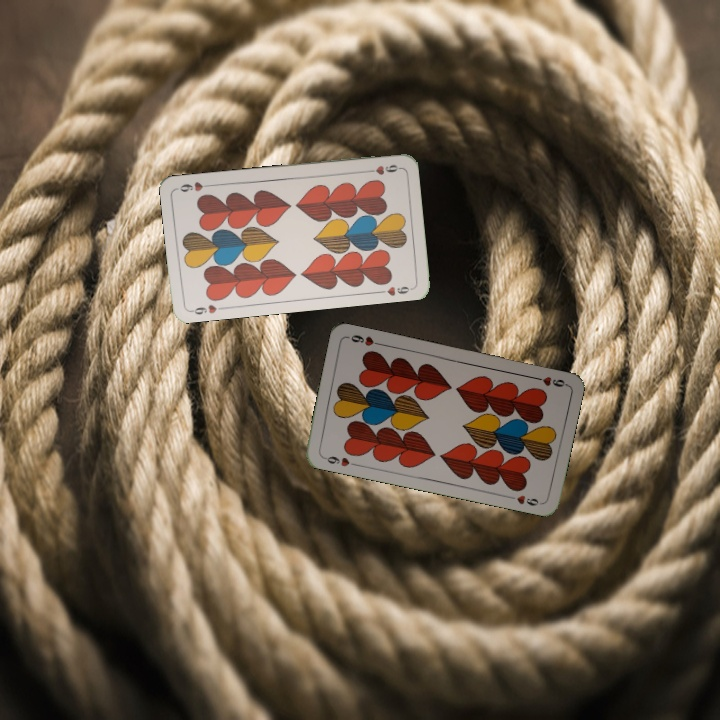H9: (528, 372, 569, 390), (362, 160, 402, 178), (319, 452, 359, 469), (186, 301, 219, 317)
